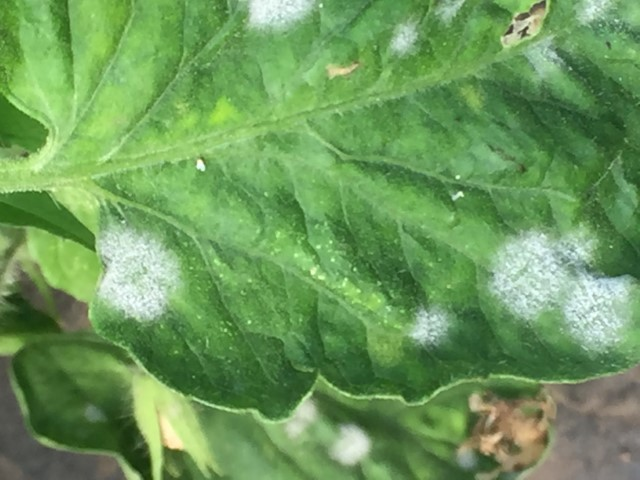oidio: (97, 226, 182, 322), (490, 226, 557, 324), (559, 271, 631, 356), (245, 1, 315, 34), (329, 422, 371, 467), (407, 305, 453, 346), (557, 224, 597, 269), (529, 36, 564, 72), (388, 21, 420, 54), (432, 1, 467, 29), (574, 1, 611, 27)
